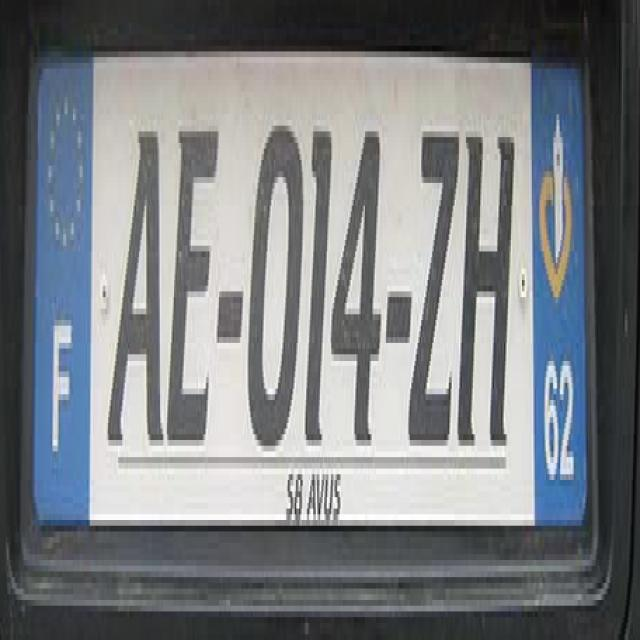EU: (19, 62, 598, 546)
France: (32, 48, 95, 513)
